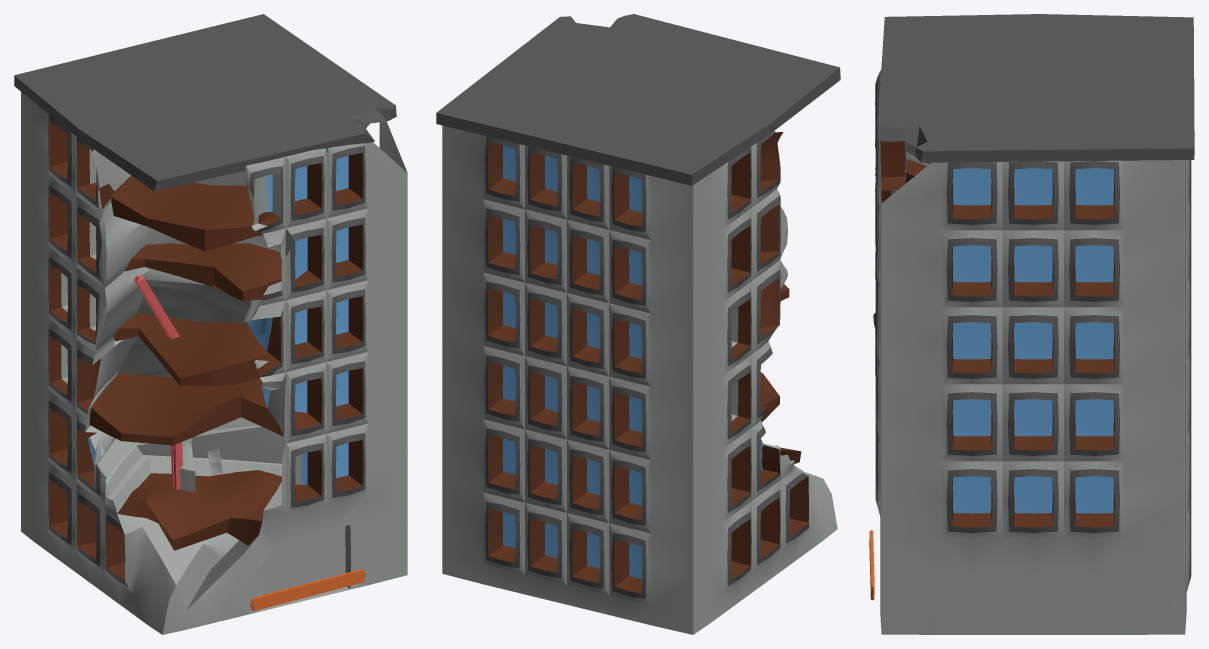
The model's file is PredioDestruidoUvAberto.fbx.
The picture shows the model from 3 angles, left to right: view 1: azimuth 30°, elevation 25°; view 2: azimuth 150°, elevation 25°; view 3: azimuth 270°, elevation 25°; orthographic projection. The views are drawn at different scales.
Visible parts, largest first — view 1: PredioDestruido; view 2: PredioDestruido; view 3: PredioDestruido.
Boxes of the visible parts, left/top/right/bottom form: PredioDestruido: left=14, top=14, right=407, bottom=634; PredioDestruido: left=436, top=14, right=840, bottom=634; PredioDestruido: left=869, top=14, right=1194, bottom=634.
Size of the model in its own units: 1300 by 2154 by 1303.
